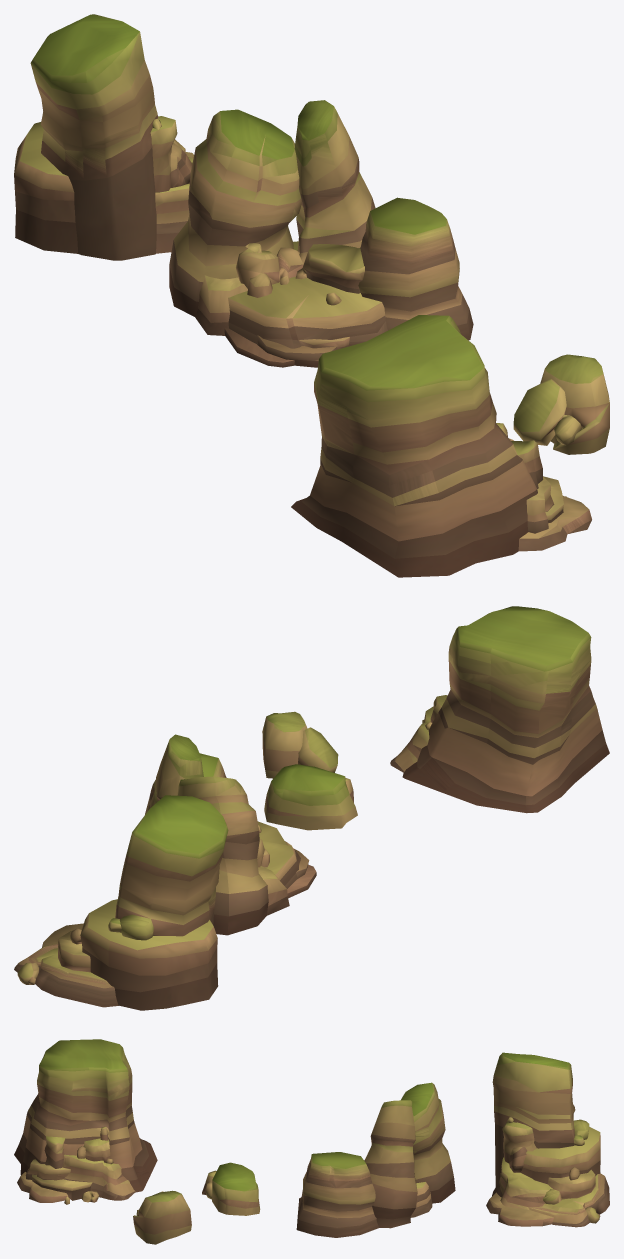
The model's file is Outcorp.glb.
3 views of the same model, one above another, from view 1: azimuth 30°, elevation 25°; view 2: azimuth 150°, elevation 25°; view 3: azimuth 270°, elevation 25° (orthographic). The views are drawn at different scales.
Visible parts, largest first — view 1: outcorp_03, outcorp_01, outcorp_05, outcorp_06.001; view 2: outcorp_01, outcorp_05, outcorp_03, outcorp_06.002, outcorp_06.001; view 3: outcorp_01, outcorp_05, outcorp_03, outcorp_06.001, outcorp_06.002.
Boxes of the visible parts, x1,y1,x2,y2 form: outcorp_03: (169, 100, 473, 367); outcorp_01: (291, 315, 591, 577); outcorp_05: (14, 14, 193, 260); outcorp_06.001: (513, 354, 609, 454); outcorp_01: (390, 606, 609, 813); outcorp_05: (14, 795, 228, 1010); outcorp_03: (145, 734, 316, 935); outcorp_06.002: (264, 764, 357, 830); outcorp_06.001: (262, 711, 338, 778); outcorp_01: (14, 1039, 157, 1204); outcorp_05: (486, 1052, 609, 1227); outcorp_03: (296, 1082, 455, 1237); outcorp_06.001: (133, 1190, 191, 1244); outcorp_06.002: (202, 1162, 260, 1215).
Size of the model in its own units: 43.49 by 27.75 by 110.
Materials: 1 (1 with a texture image).
